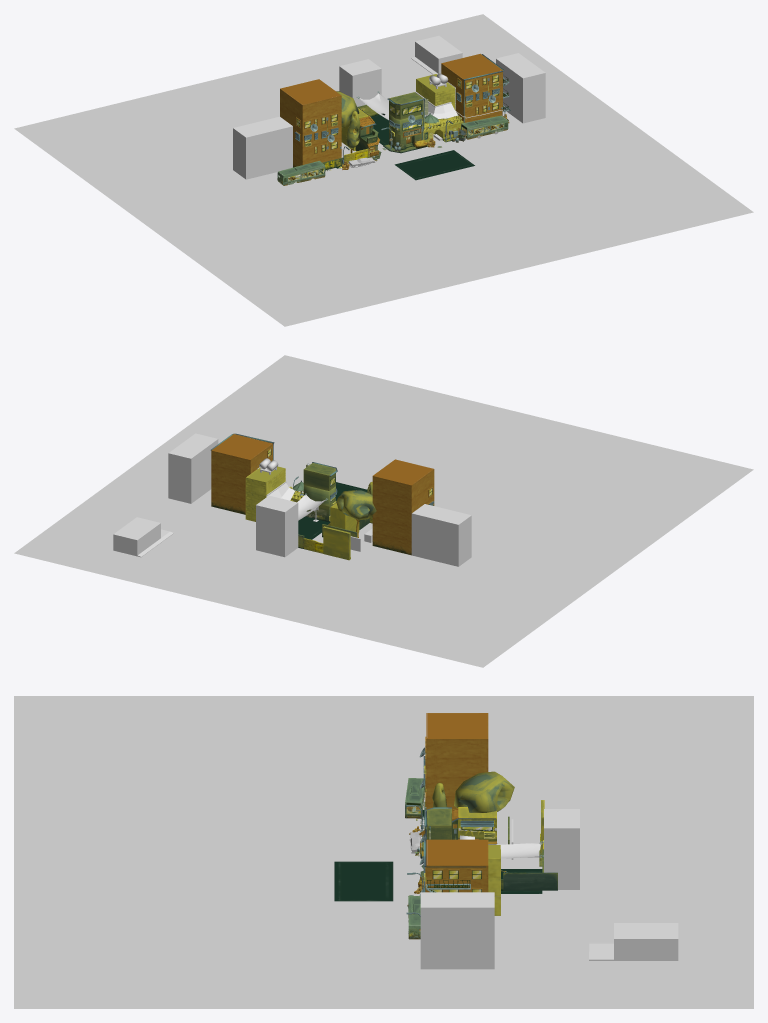
File: BattleGround.fbx
3 views of the same model, one above another, from view 1: azimuth 30°, elevation 25°; view 2: azimuth 150°, elevation 25°; view 3: azimuth 270°, elevation 25° (orthographic). The views are drawn at different scales.
Parts seen in each view (by area): view 1: Plane.011, Plane.150, Plane.120, Plane.136, Plane.117, Plane.159, Plane.059, Plane.024, Plane.039, Plane.115, Plane.014, Plane.046; view 2: Plane.011, Plane.150, Plane.120, Plane.136, Plane.117, Plane.159, Plane.039, Plane.059, Plane.089, Plane.015, Plane.115, Plane.151; view 3: Plane.011, Plane.117, Plane.150, Plane.136, Plane.039, Plane.159, Plane.024, Plane.089, Plane.016, Plane.087, Plane.115, Plane.059 (+3 smaller).
Boxes of the visible parts, x1,y1,x2,y2 form: Plane.011: (14, 14, 753, 326); Plane.150: (280, 79, 341, 160); Plane.120: (233, 116, 292, 179); Plane.136: (441, 53, 502, 121); Plane.117: (496, 53, 545, 123); Plane.159: (339, 59, 381, 106); Plane.059: (416, 74, 463, 146); Plane.024: (394, 150, 474, 180); Plane.039: (411, 36, 462, 74); Plane.115: (387, 92, 428, 140); Plane.014: (277, 161, 325, 185); Plane.046: (461, 115, 508, 139); Plane.011: (14, 355, 753, 667); Plane.150: (372, 459, 434, 541); Plane.120: (411, 504, 471, 566); Plane.136: (211, 434, 272, 500); Plane.117: (168, 433, 218, 503); Plane.159: (256, 495, 298, 557); Plane.039: (113, 517, 173, 557); Plane.059: (245, 466, 303, 521); Plane.089: (336, 490, 376, 537); Plane.015: (323, 526, 350, 560); Plane.115: (303, 462, 337, 490); Plane.151: (372, 532, 411, 555); Plane.011: (14, 696, 753, 1008); Plane.117: (420, 892, 494, 969); Plane.150: (419, 713, 488, 809); Plane.136: (419, 839, 488, 896); Plane.039: (589, 923, 678, 960); Plane.159: (544, 809, 579, 889); Plane.024: (334, 861, 393, 901); Plane.089: (454, 771, 514, 812); Plane.016: (458, 807, 497, 844); Plane.087: (503, 872, 557, 890); Plane.115: (424, 807, 451, 839); Plane.059: (488, 845, 500, 915).
Size of the model in its own units: 11044 by 1871 by 11044.
